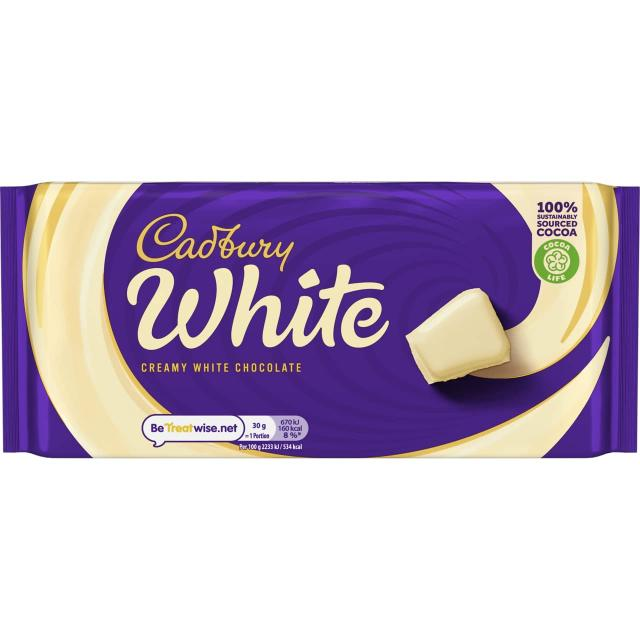cadbury: (4, 180, 638, 460)
